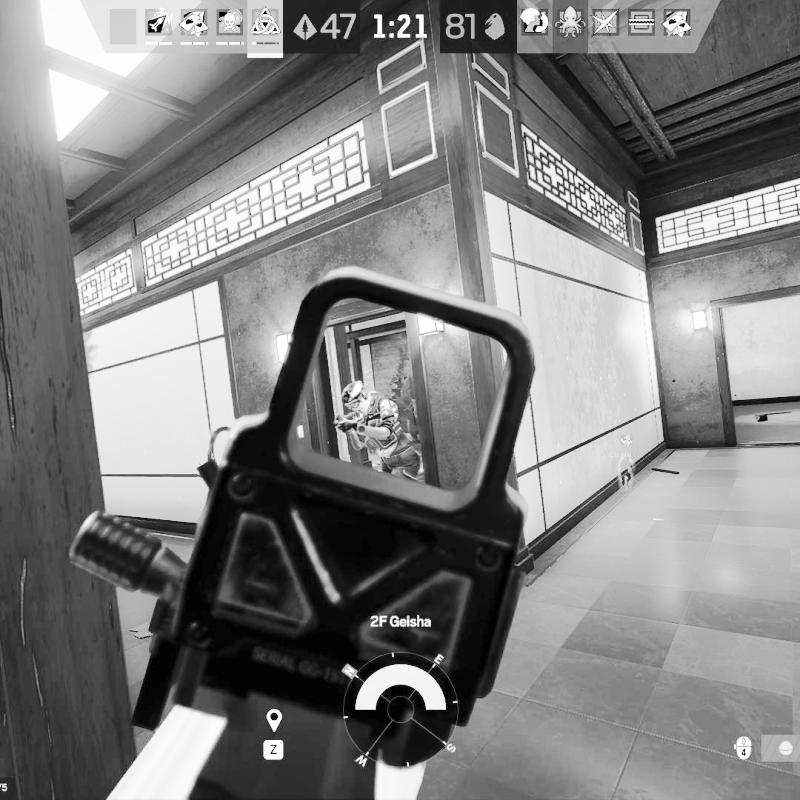Character: (332, 378, 423, 484)
Friend_label: (608, 432, 646, 459)
Head: (341, 380, 370, 411)
